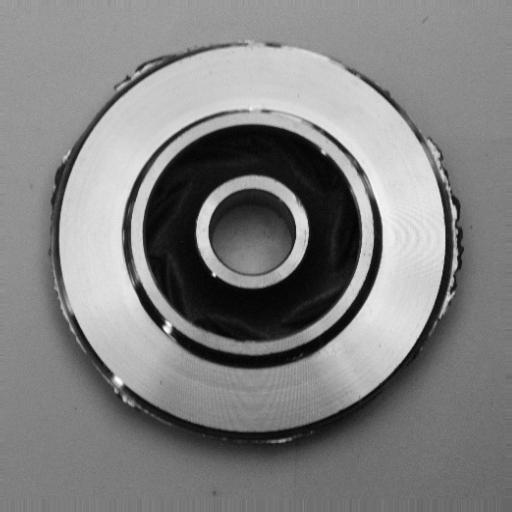casting_with_burr: (48, 40, 464, 451)
scratch: (235, 98, 329, 136), (149, 300, 206, 362)
